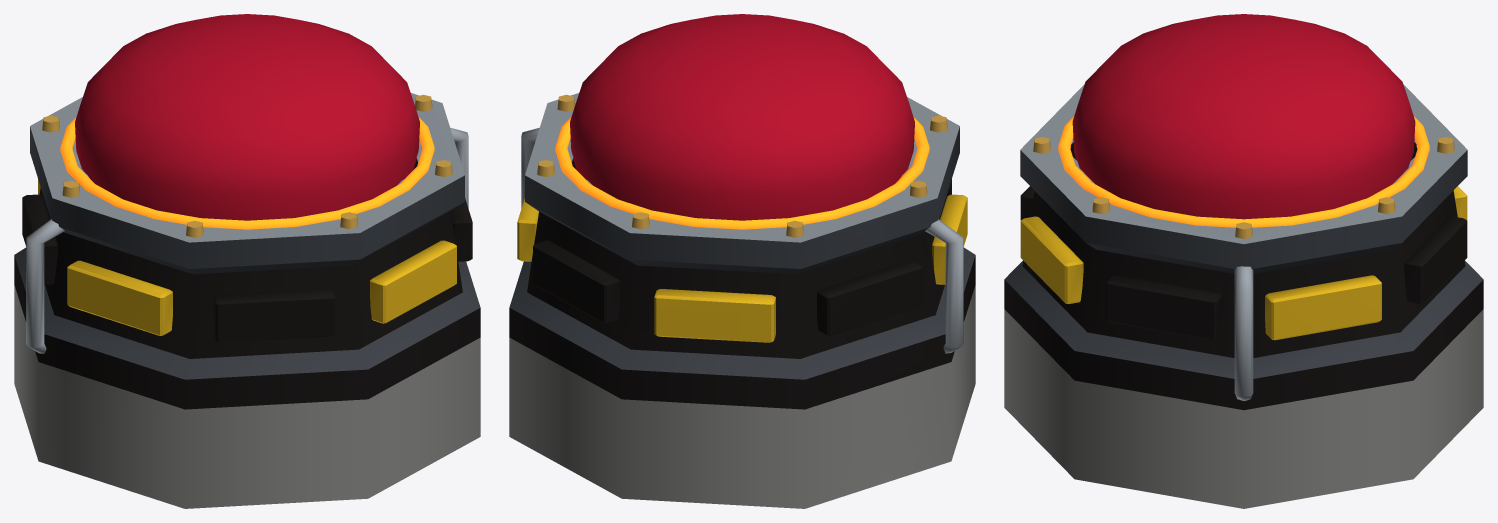
File: lmf_red_knopf.glb
3 renders of one model, left to right at view 1: azimuth 30°, elevation 25°; view 2: azimuth 150°, elevation 25°; view 3: azimuth 270°, elevation 25°, orthographic.
Parts seen in each view (by area): view 1: body, knopf_cap; view 2: body, knopf_cap; view 3: body, knopf_cap.
Boxes of the visible parts, x1,y1,x2,y2 form: body: (14, 93, 480, 508); knopf_cap: (75, 14, 419, 220); body: (509, 93, 975, 508); knopf_cap: (570, 14, 914, 220); body: (1004, 84, 1483, 508); knopf_cap: (1072, 14, 1415, 219).
Size of the model in its own units: 6.96 by 5.54 by 6.6.
